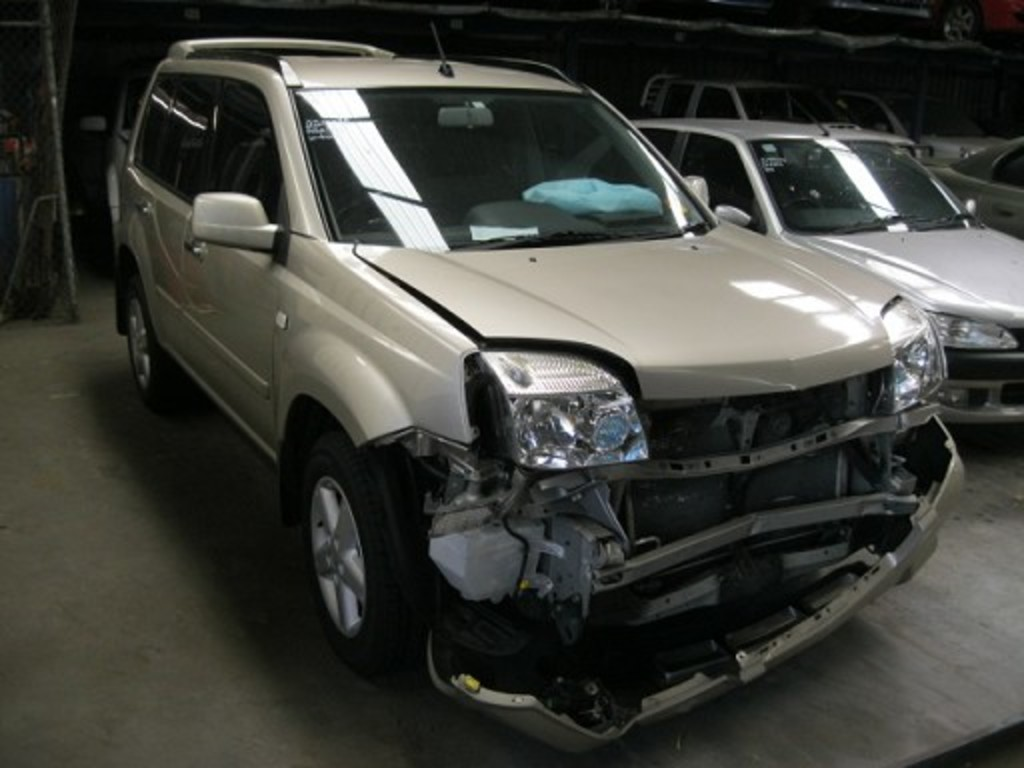Car: (97, 34, 931, 728), (536, 114, 1022, 442), (931, 135, 1022, 240)
